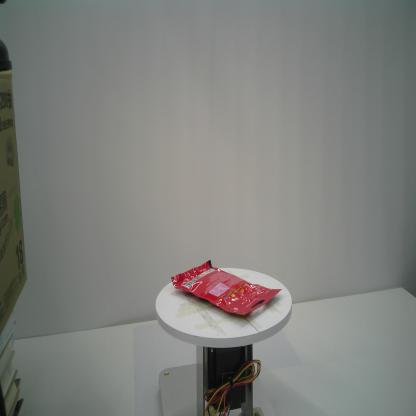Candy: (171, 258, 282, 316)
